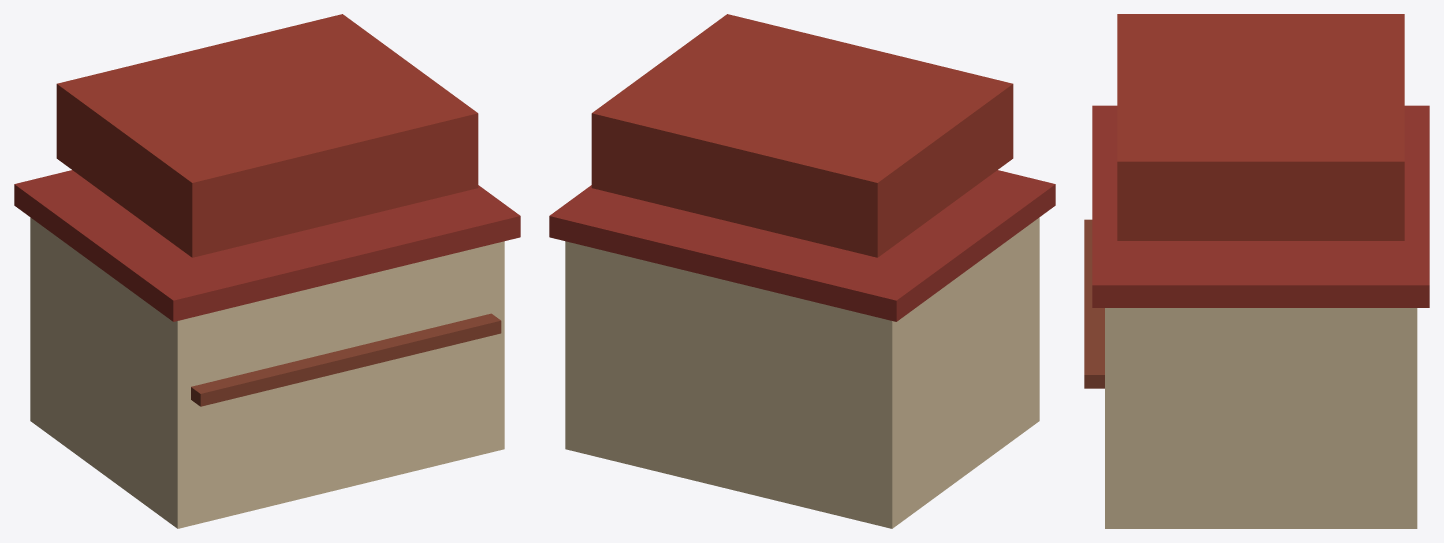
Rendered from house_3.dae.
The picture shows the model from 3 angles, left to right: view 1: azimuth 30°, elevation 25°; view 2: azimuth 150°, elevation 25°; view 3: azimuth 270°, elevation 25°; orthographic projection. The views are drawn at different scales.
Parts seen in each view (by area): view 1: main, roof_peak, roof, canopy; view 2: main, roof_peak, roof; view 3: main, roof_peak, roof, canopy.
Part boxes in pixels (left/top/right/bottom): main: left=30, top=217, right=504, bottom=528; roof_peak: left=56, top=14, right=478, bottom=257; roof: left=14, top=170, right=520, bottom=321; canopy: left=191, top=313, right=501, bottom=406; main: left=565, top=217, right=1039, bottom=528; roof_peak: left=591, top=14, right=1013, bottom=257; roof: left=549, top=170, right=1055, bottom=321; main: left=1105, top=308, right=1417, bottom=528; roof_peak: left=1117, top=14, right=1404, bottom=240; roof: left=1092, top=105, right=1429, bottom=307; canopy: left=1084, top=219, right=1104, bottom=388.
Size of the model in its own units: 6.8 by 5.53 by 6.3.
